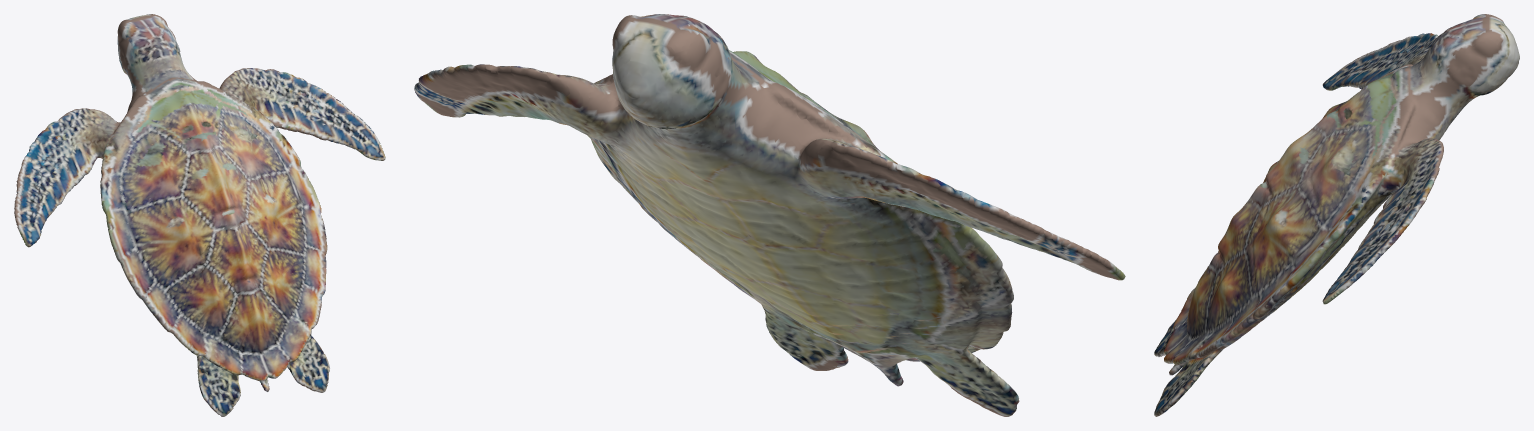
The model's file is hunyuan_turtle_colored.glb.
3 views of the same model, side by side, from view 1: azimuth 30°, elevation 25°; view 2: azimuth 150°, elevation 25°; view 3: azimuth 270°, elevation 25° (orthographic). The views are drawn at different scales.
Visible parts, largest first — view 1: hunyuan_turtle_test.glb; view 2: hunyuan_turtle_test.glb; view 3: hunyuan_turtle_test.glb.
Boxes of the visible parts, <box> form: hunyuan_turtle_test.glb: <box>14,14,385,416</box>; hunyuan_turtle_test.glb: <box>414,14,1125,416</box>; hunyuan_turtle_test.glb: <box>1154,14,1519,416</box>.
Bounding box in the file's own units: 1.99 × 1.53 × 1.39.
